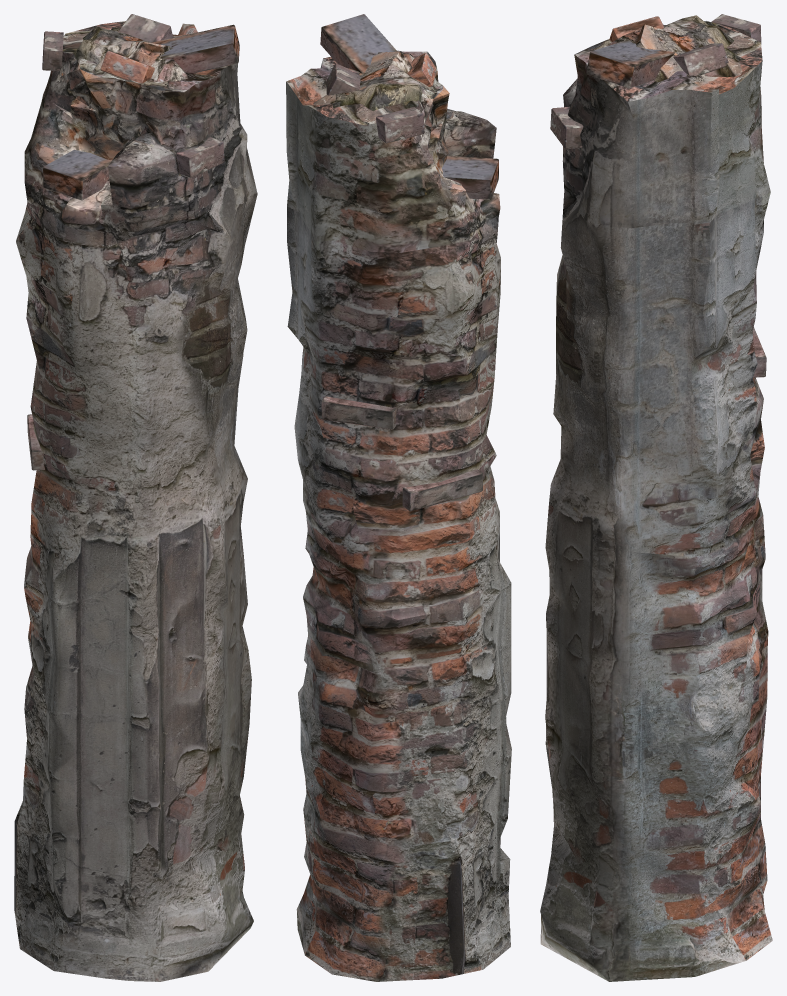
The model's file is SM_ChapelColumn_01_05.fbx.
The picture shows the model from 3 angles, left to right: view 1: azimuth 30°, elevation 25°; view 2: azimuth 150°, elevation 25°; view 3: azimuth 270°, elevation 25°; orthographic projection. The views are drawn at different scales.
Parts seen in each view (by area): view 1: sm_ChapelColumn_01_05_LOD0; view 2: sm_ChapelColumn_01_05_LOD0; view 3: sm_ChapelColumn_01_05_LOD0.
Part boxes in pixels (bbox=[...]): sm_ChapelColumn_01_05_LOD0: bbox=[14, 14, 257, 981]; sm_ChapelColumn_01_05_LOD0: bbox=[286, 14, 511, 981]; sm_ChapelColumn_01_05_LOD0: bbox=[540, 14, 772, 981].
Bounding box in the file's own units: 77.32 × 76 × 336.
